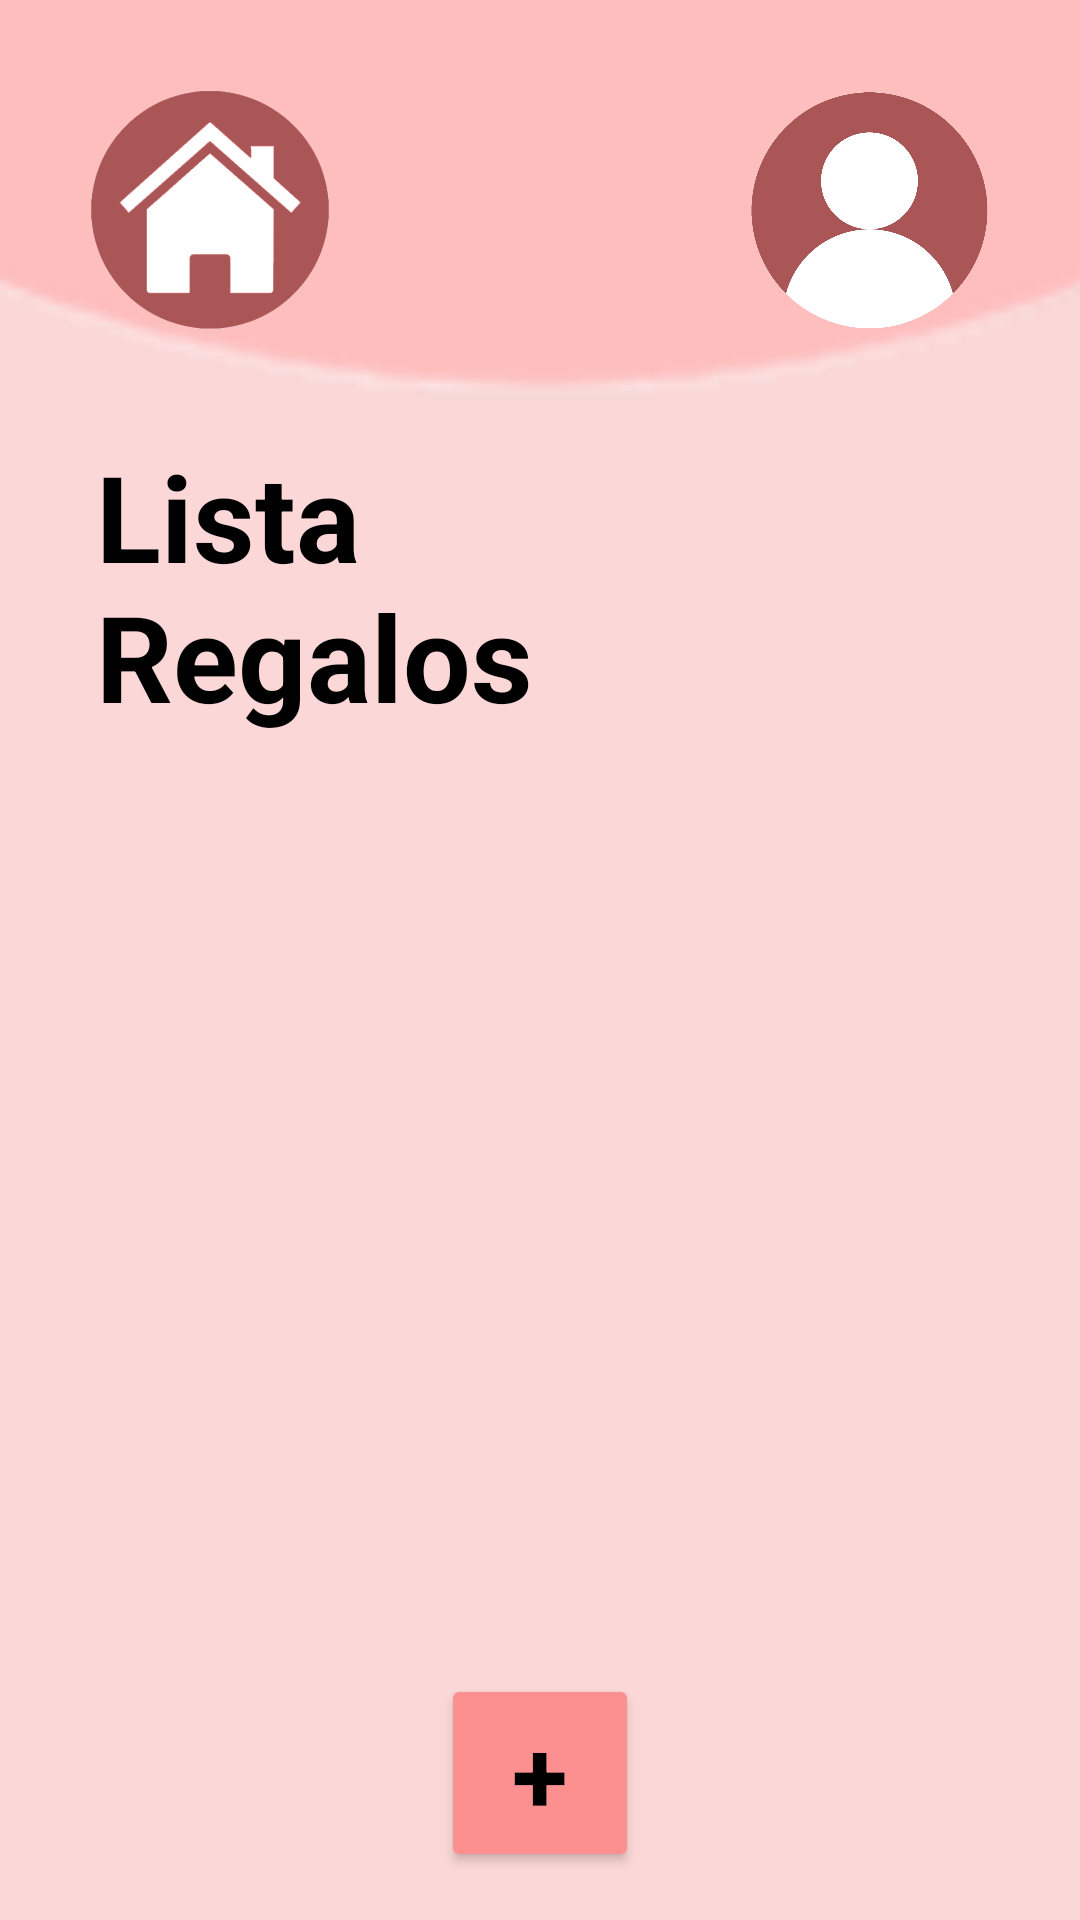

Where to tap for icons on this 1080px x 1920px app screen, as (x=x, y=y):
home: (x=210, y=210)
usuario: (x=869, y=210)
